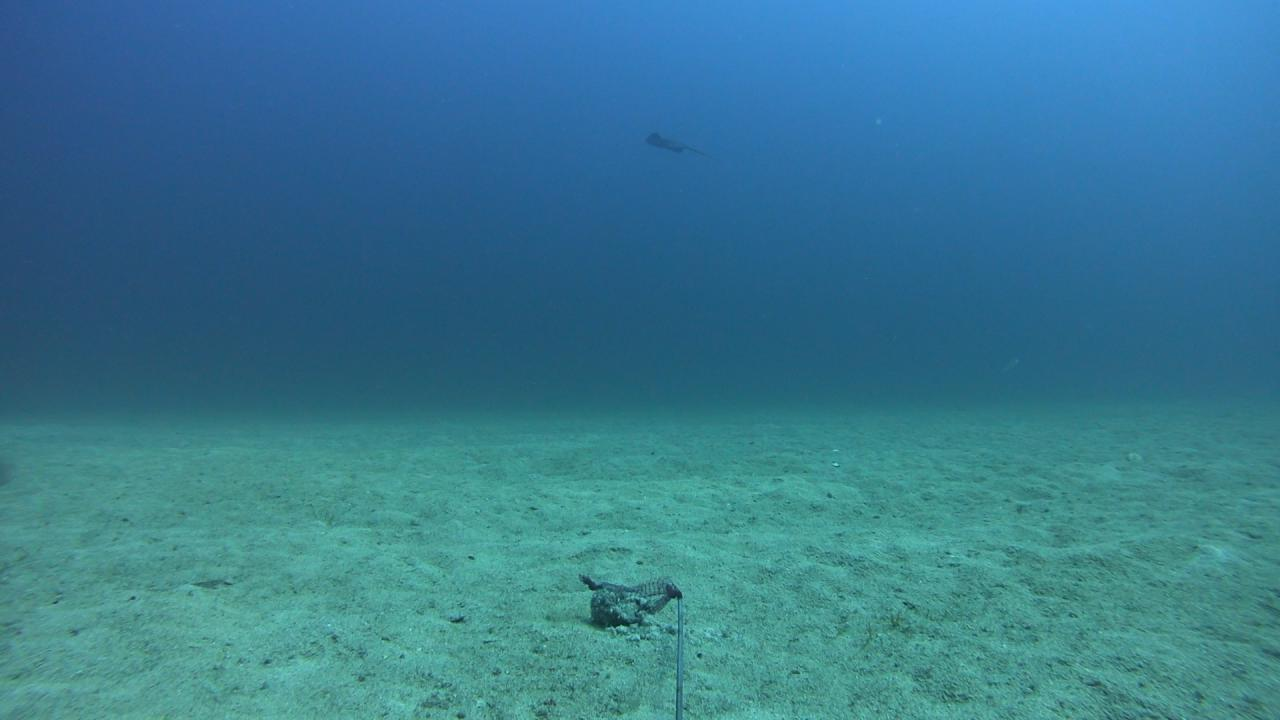dasyatis: (641, 126, 709, 156)
